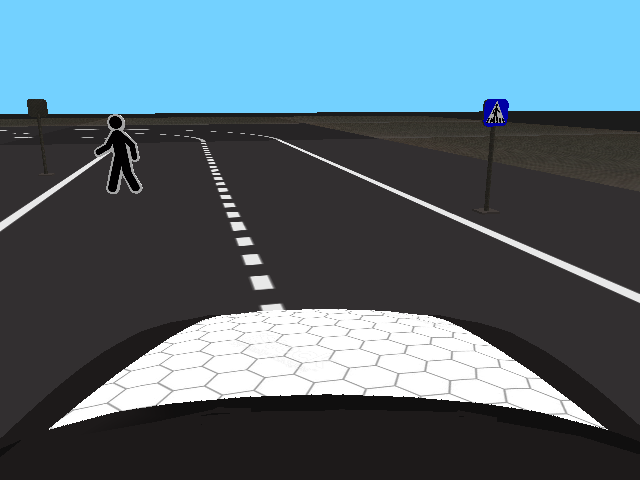pedestrian: (92, 114, 144, 196)
